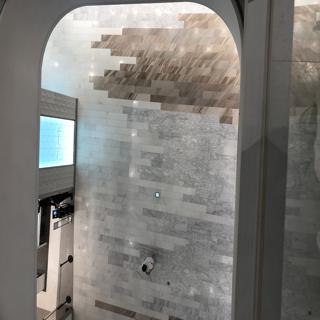person: (131, 252, 160, 286)
